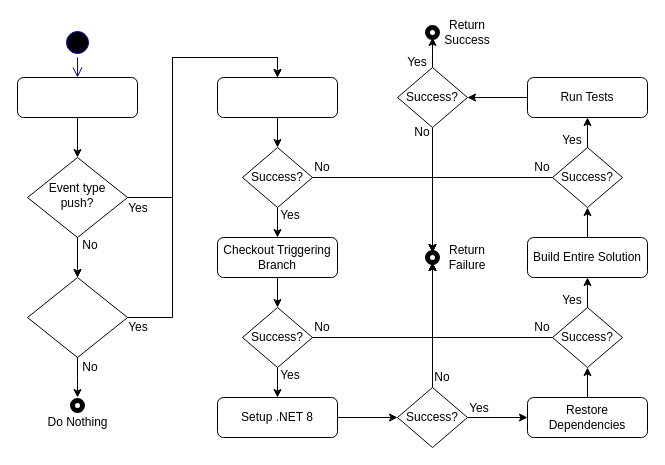
Image size: 665x465. Some labels were removed from this diagram. Each missing label, with the box of its shape:
Event triggers workflow (any branch): (16, 76, 138, 118)
Event type pull request?: (26, 276, 128, 358)
Start Ubuntu Environment: (216, 76, 338, 118)
